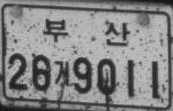0: (96, 57, 116, 95)
1: (145, 60, 165, 99), (121, 58, 140, 98)
2: (7, 51, 28, 91)
6: (30, 53, 51, 91)
9: (72, 56, 93, 95)
거: (53, 59, 70, 86)
부산_D: (41, 17, 131, 47)
